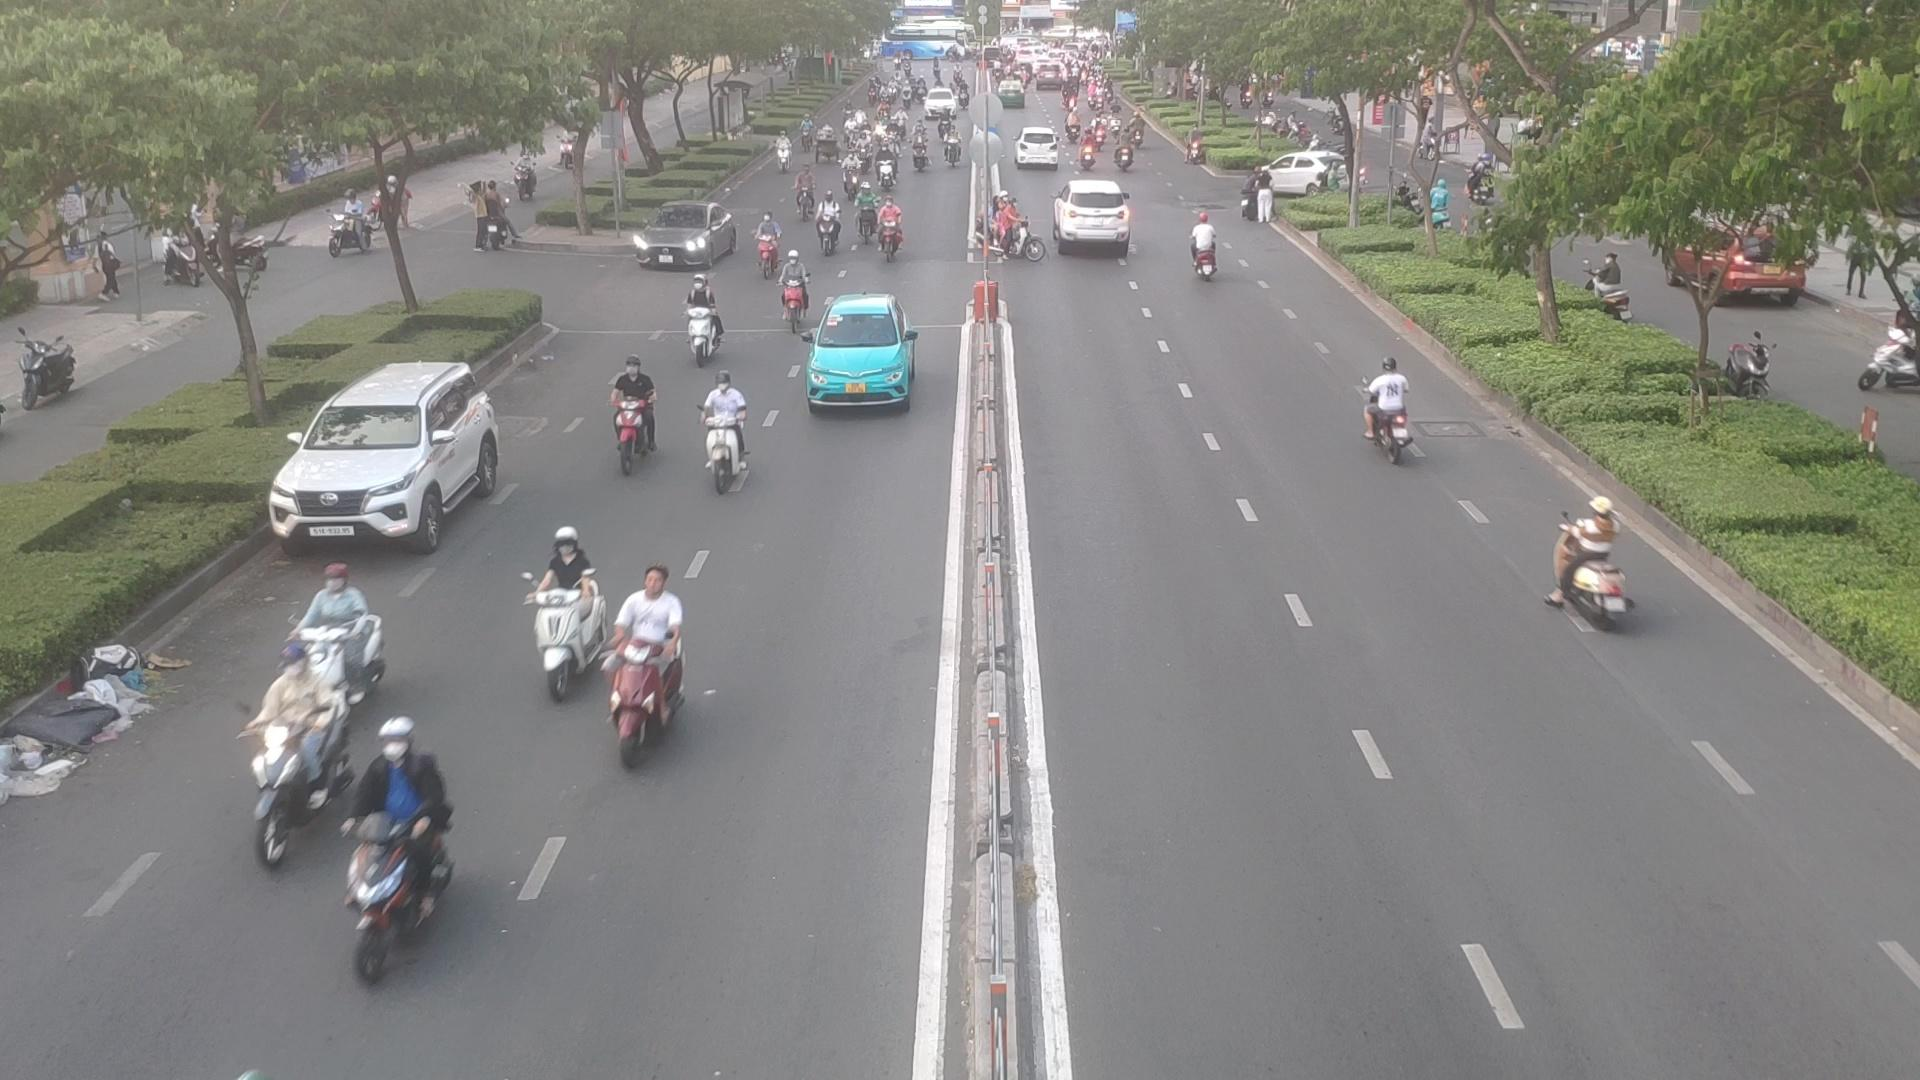car: (270, 363, 505, 555), (800, 294, 916, 417), (629, 203, 742, 274), (1056, 179, 1142, 251), (1251, 149, 1342, 196), (1011, 127, 1064, 167)
motorbike: (347, 698, 463, 982), (200, 651, 343, 866), (276, 593, 392, 736), (608, 574, 694, 754), (531, 520, 605, 709), (1549, 485, 1633, 630), (599, 356, 655, 477), (1367, 345, 1420, 468), (703, 371, 752, 497), (684, 281, 731, 364), (996, 204, 1046, 266), (1187, 214, 1225, 282), (876, 195, 906, 258), (754, 216, 779, 291), (814, 190, 841, 255), (785, 247, 804, 334), (791, 170, 818, 225), (856, 178, 876, 251), (877, 142, 895, 194), (1113, 132, 1138, 167), (778, 132, 796, 174), (942, 127, 960, 162), (843, 152, 857, 196), (909, 128, 924, 169), (857, 132, 872, 166), (1077, 132, 1091, 167)
